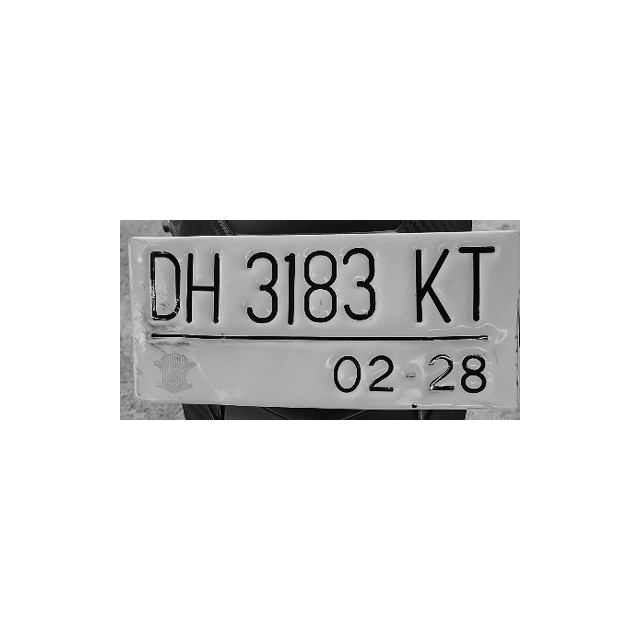contain: (454, 240, 501, 323), (413, 244, 458, 330), (301, 239, 341, 324), (341, 241, 381, 324), (242, 248, 280, 329), (145, 249, 185, 324), (185, 247, 222, 326), (270, 241, 299, 333)
